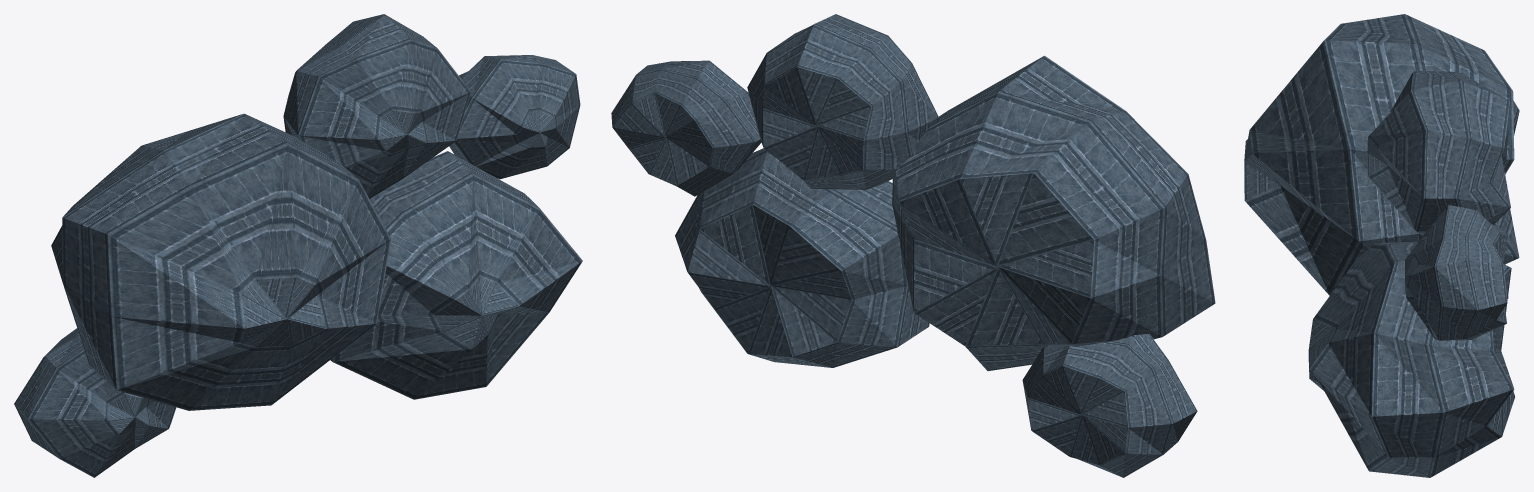
The model's file is rv_rock_cluster.obj.
3 renders of one model, left to right at view 1: azimuth 30°, elevation 25°; view 2: azimuth 150°, elevation 25°; view 3: azimuth 270°, elevation 25°, orthographic. The views are drawn at different scales.
Visible parts, largest first — view 1: rv_rock_cluster; view 2: rv_rock_cluster; view 3: rv_rock_cluster.
Boxes of the visible parts, x1=… form: rv_rock_cluster: x1=14, y1=14, x2=582, y2=477; rv_rock_cluster: x1=611, y1=14, x2=1215, y2=477; rv_rock_cluster: x1=1244, y1=14, x2=1519, y2=477.
Bounding box in the file's own units: 6.72 × 4.33 × 2.78.
1 material, 1 textured.
